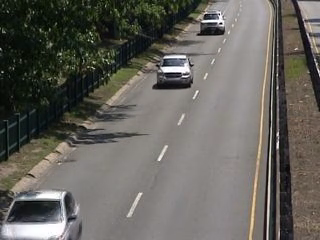car: (1, 188, 90, 240), (153, 52, 197, 92), (197, 9, 228, 37)
